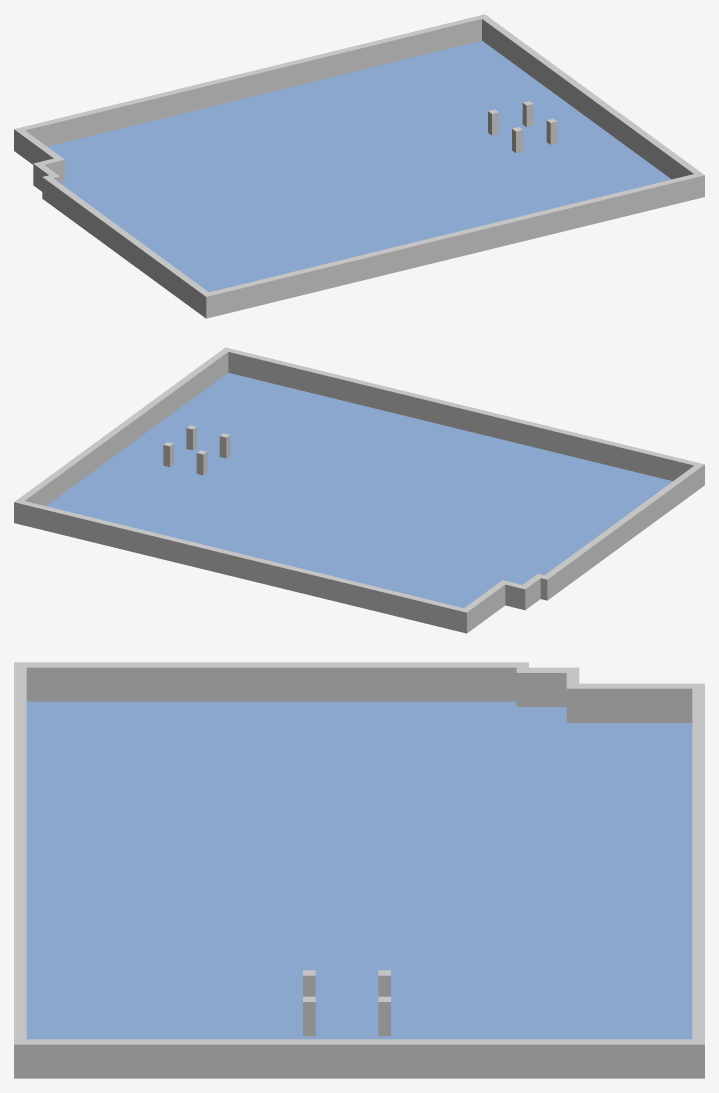
Rendered from shop1_walls.dae.
3 views of the same model, one above another, from view 1: azimuth 30°, elevation 25°; view 2: azimuth 150°, elevation 25°; view 3: azimuth 270°, elevation 25° (orthographic). The views are drawn at different scales.
Parts seen in each view (by area): view 1: Plane, walls; view 2: Plane, walls; view 3: Plane, walls.
Part boxes in pixels (<box>): Plane: <box>47,40,671,292</box>; walls: <box>14,14,704,318</box>; Plane: <box>46,373,672,607</box>; walls: <box>14,347,704,633</box>; Plane: <box>26,701,692,1039</box>; walls: <box>14,662,704,1078</box>.
Size of the model in its own units: 72 by 55 by 3.
